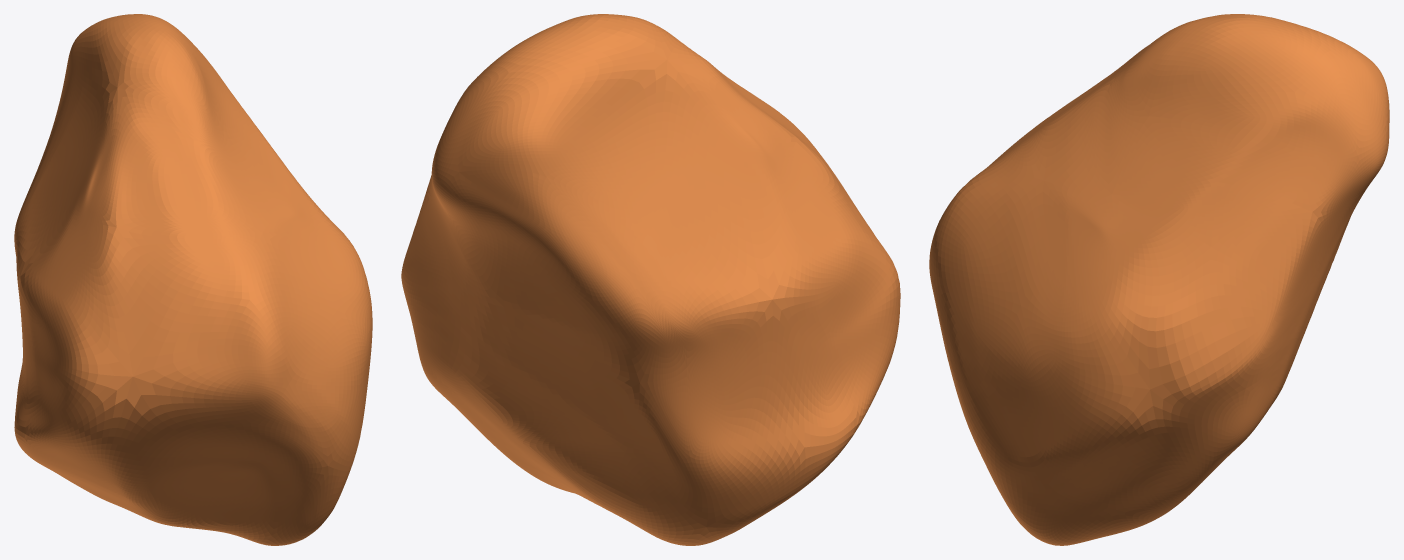
Rendered from Desert_Rock2.fbx.
The picture shows the model from 3 angles, left to right: view 1: azimuth 30°, elevation 25°; view 2: azimuth 150°, elevation 25°; view 3: azimuth 270°, elevation 25°; orthographic projection. The views are drawn at different scales.
Parts seen in each view (by area): view 1: Cube; view 2: Cube; view 3: Cube.
Part boxes in pixels (x1=…): Cube: x1=14, y1=14, x2=372, y2=545; Cube: x1=401, y1=14, x2=900, y2=545; Cube: x1=929, y1=14, x2=1389, y2=545.
Bounding box in the file's own units: 142 × 186 × 155.
